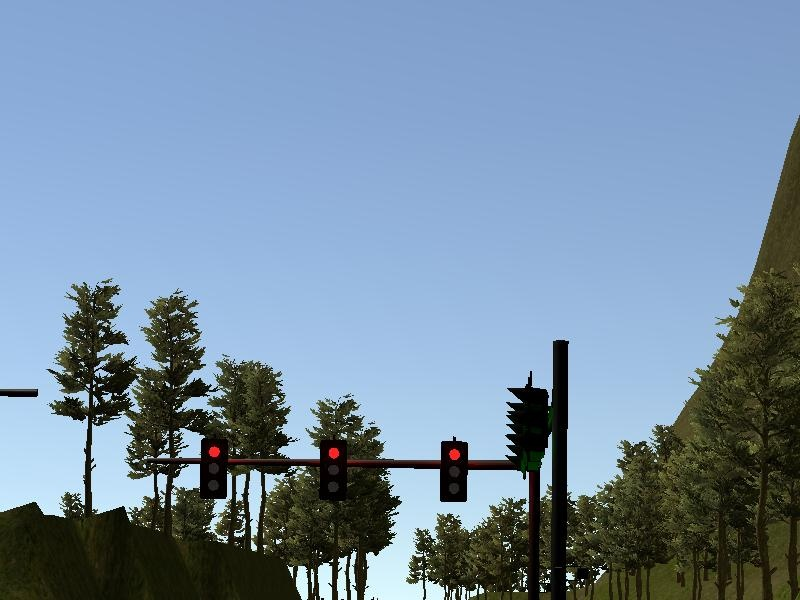Red: (440, 439, 467, 503), (200, 438, 227, 500), (319, 440, 346, 501)
